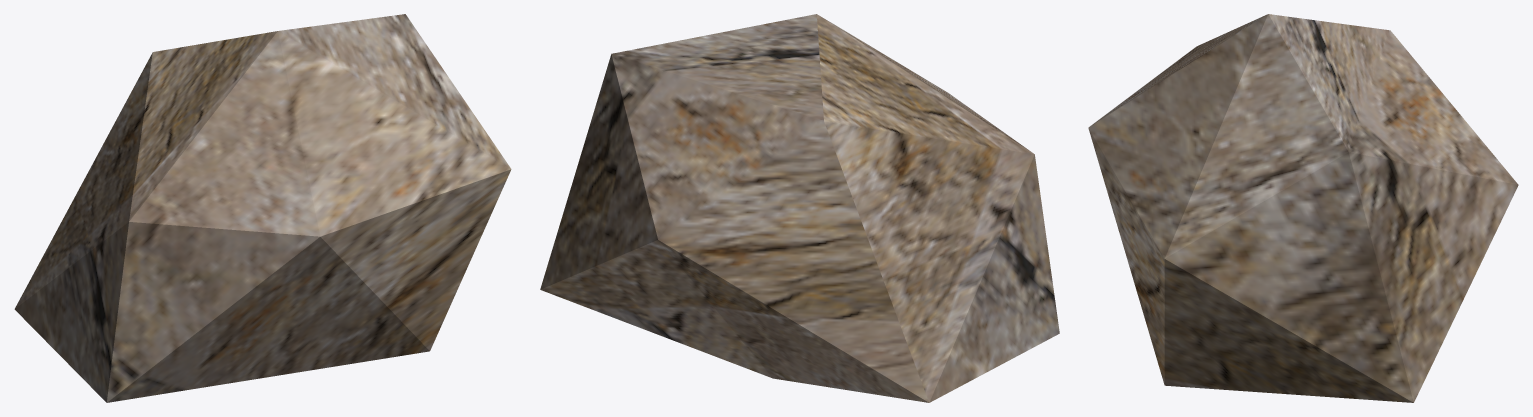
Rendered from Kivi_Middle.fbx.
3 renders of one model, left to right at view 1: azimuth 30°, elevation 25°; view 2: azimuth 150°, elevation 25°; view 3: azimuth 270°, elevation 25°, orthographic. The views are drawn at different scales.
Visible parts, largest first — view 1: pPlatonic1; view 2: pPlatonic1; view 3: pPlatonic1.
Boxes of the visible parts, bbox=[...] form: pPlatonic1: bbox=[14, 14, 511, 402]; pPlatonic1: bbox=[540, 14, 1059, 402]; pPlatonic1: bbox=[1088, 14, 1518, 402].
Bounding box in the file's own units: 0.8365 × 0.597 × 0.7277.
